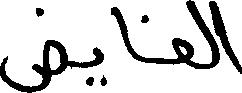X: (0, 3, 66, 92), (218, 2, 241, 78), (193, 0, 216, 73), (113, 2, 136, 64), (173, 0, 191, 71), (93, 42, 102, 90)
